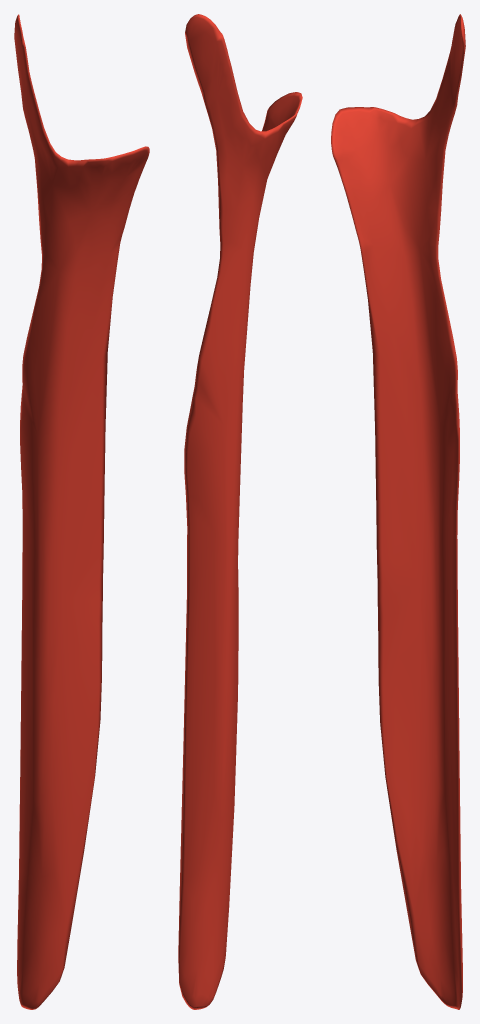
Rendered from Fibularis_longus_lateral_fibula_right.glb.
3 renders of one model, left to right at view 1: azimuth 90°, elevation 25°; view 2: azimuth 150°, elevation 25°; view 3: azimuth 270°, elevation 25°, orthographic.
Visible parts, largest first — view 1: Fibularis_longus_on_lateral_side_of_fibula.r_Generated_Mesh_; view 2: Fibularis_longus_on_lateral_side_of_fibula.r_Generated_Mesh_; view 3: Fibularis_longus_on_lateral_side_of_fibula.r_Generated_Mesh_.
Boxes of the visible parts, x1,y1,x2,y2 form: Fibularis_longus_on_lateral_side_of_fibula.r_Generated_Mesh_: (14,14,149,1009); Fibularis_longus_on_lateral_side_of_fibula.r_Generated_Mesh_: (178,14,302,1009); Fibularis_longus_on_lateral_side_of_fibula.r_Generated_Mesh_: (331,14,465,1009).
Size of the model in its own units: 0.0114 by 0.146 by 0.018.
